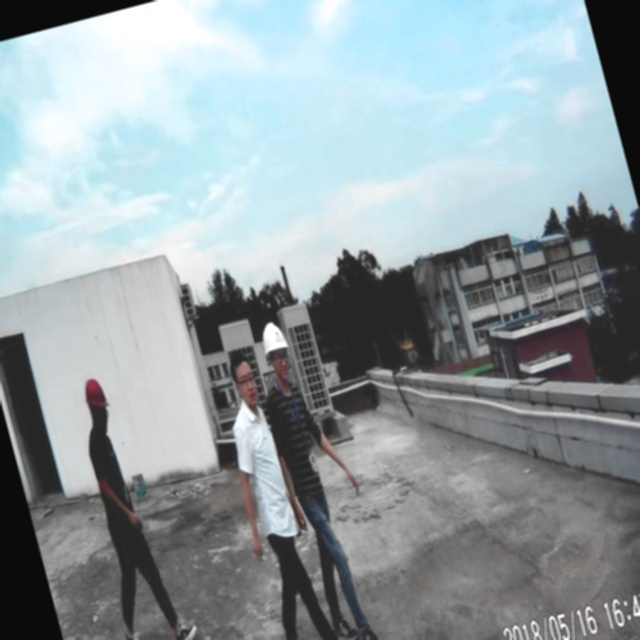Con_Casco: (256, 316, 297, 385)
Sin_Casco_Mascarrilla: (224, 349, 263, 412)
Sin_Chaleco: (225, 403, 301, 550), (264, 380, 334, 508)
